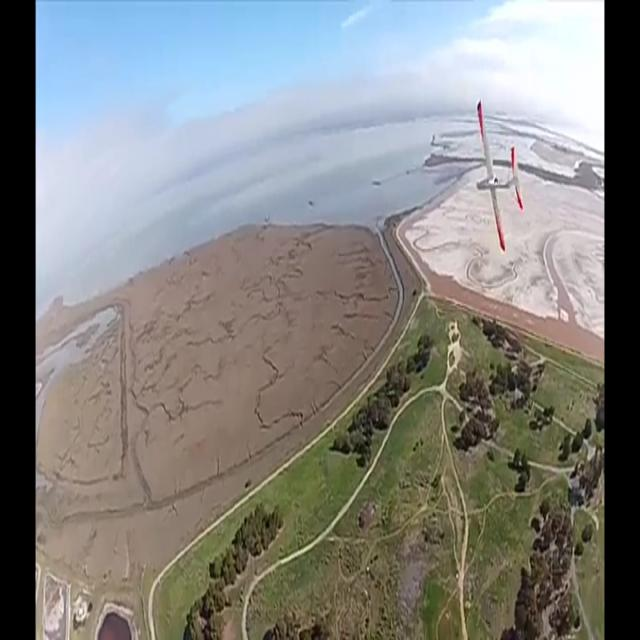iha: (474, 96, 524, 255)
